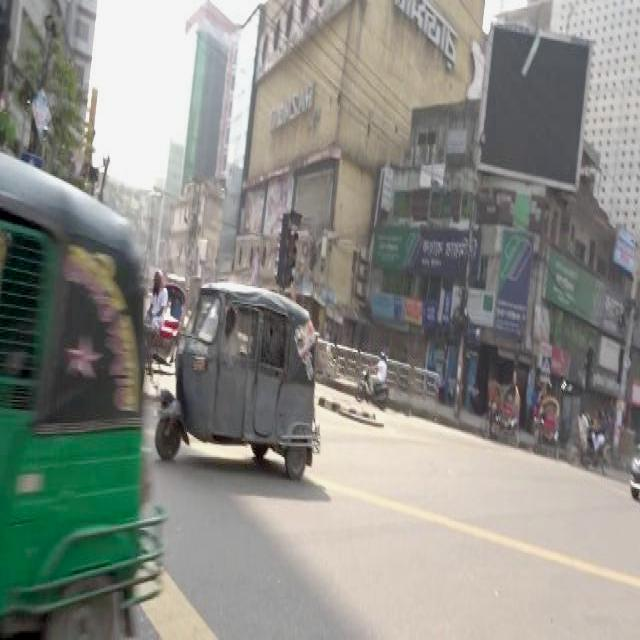motorcycle: (4, 153, 175, 629), (153, 276, 328, 480), (145, 266, 188, 386), (566, 400, 616, 471), (482, 376, 523, 444), (534, 387, 563, 457), (357, 348, 391, 406)
